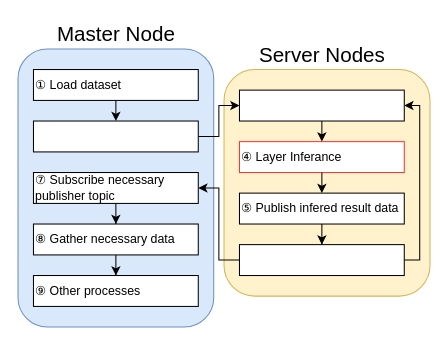
This 448x345 diagram has some shape labels left out. Each missing label, with the centre of its shape:
"② Publish data" belongs at [115,136].
"③ Wait data from privious layer" belongs at [321,105].
"⑥ Next layer: go to ③" belongs at [321,260].
